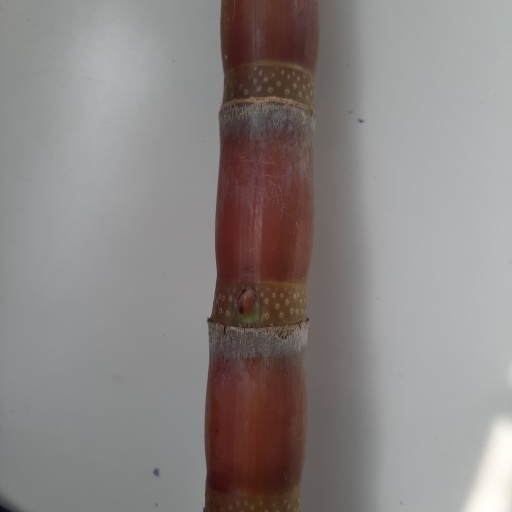Bud: (236, 284, 262, 325)
